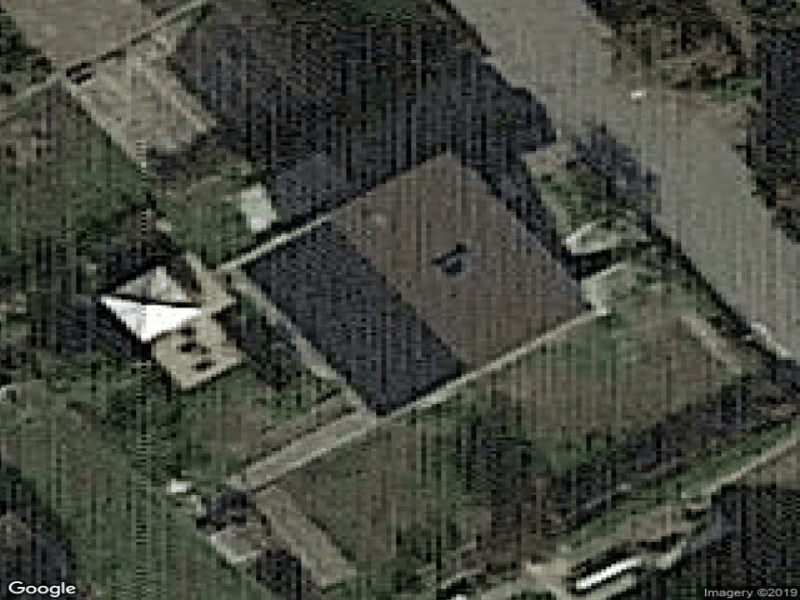pv: (245, 225, 467, 417)
